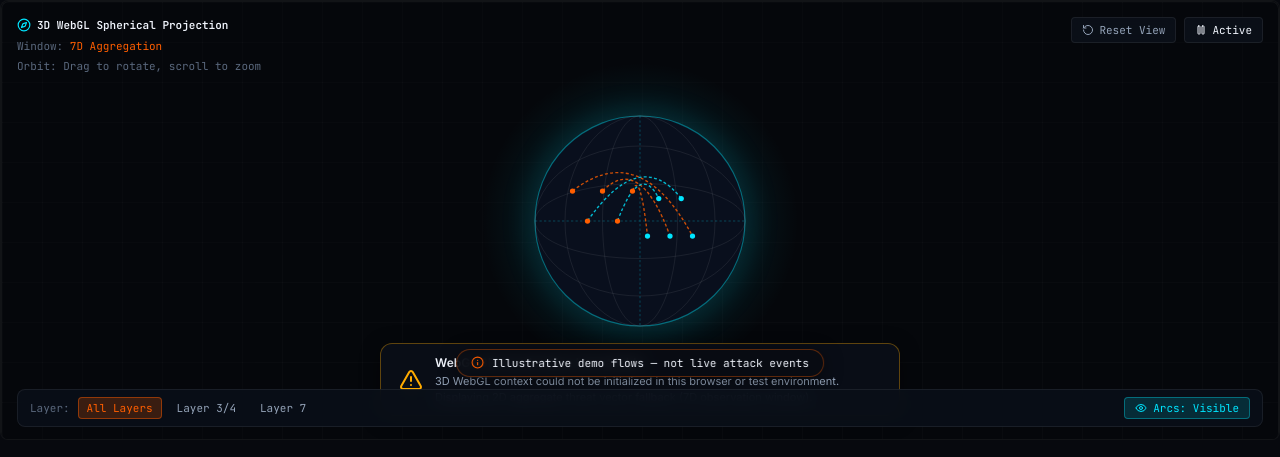
it: GlobeContainer & WebGL Resilience › allows user interaction with layer filters and arc controls even in fallback mode
The width and height of the screenshot is (1280, 457).
Layer buttons work
Click the button with aria-label "Filter by Layer 3/4": (206, 408) [168, 397, 245, 419]
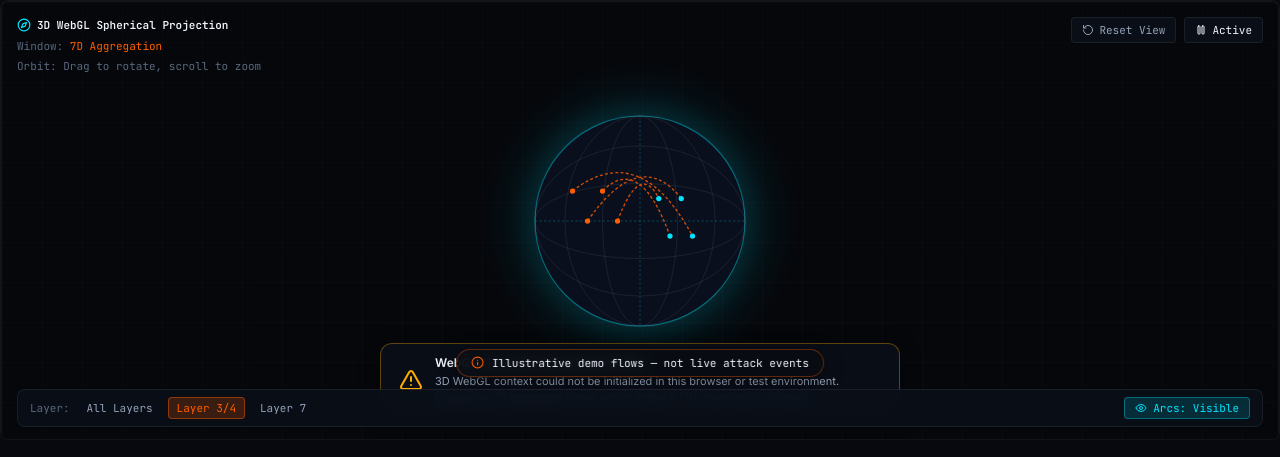
Check: the button with aria-label "Filter by Layer 3/4" is pressed, box [168, 397, 245, 419]
Arc toggle works
Click the button with aria-label "Hide threat arcs": (1187, 408) [1124, 397, 1250, 419]
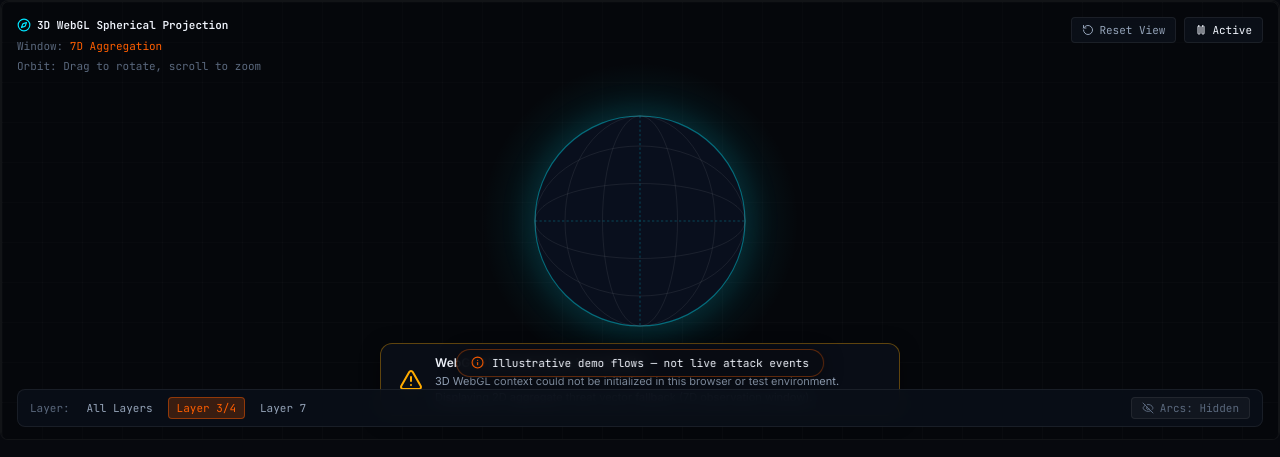
Check: the button with aria-label "Show threat arcs" is shown, box [1131, 397, 1250, 419]
